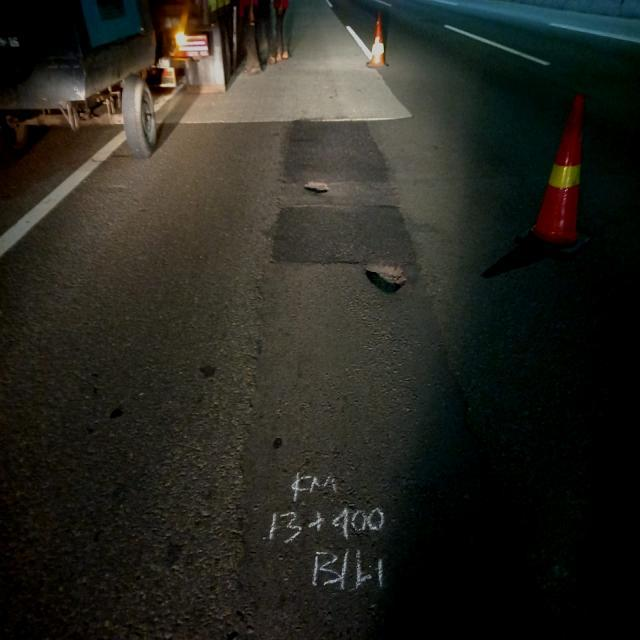Buraco: (357, 260, 413, 300), (299, 178, 333, 197)
